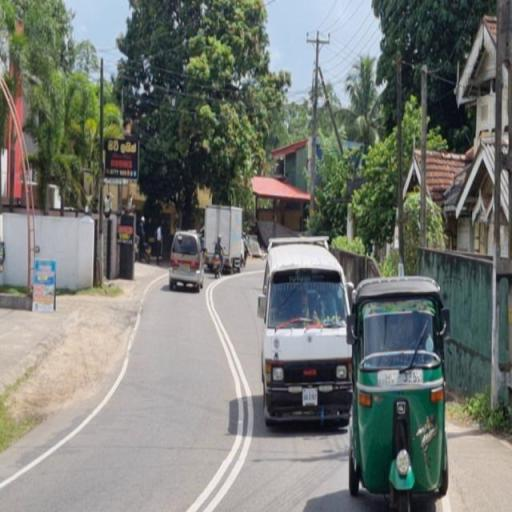double_white_line: (187, 282, 260, 511)
